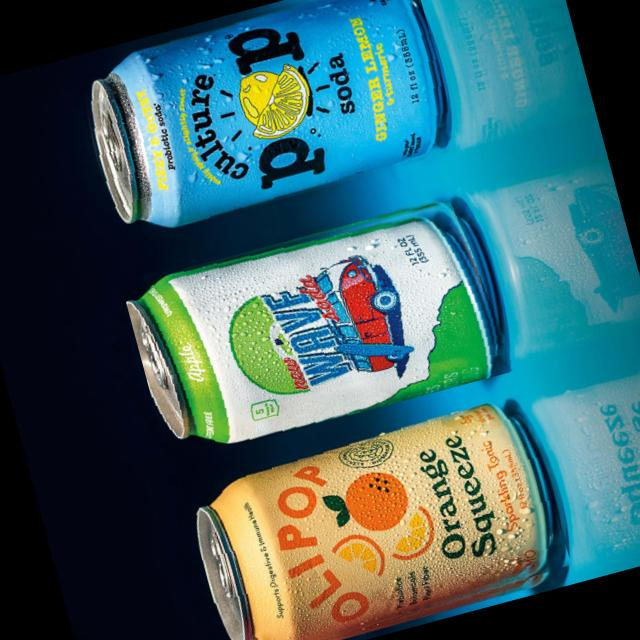Cans: (119, 184, 517, 462), (63, 0, 462, 248), (181, 391, 573, 640)
